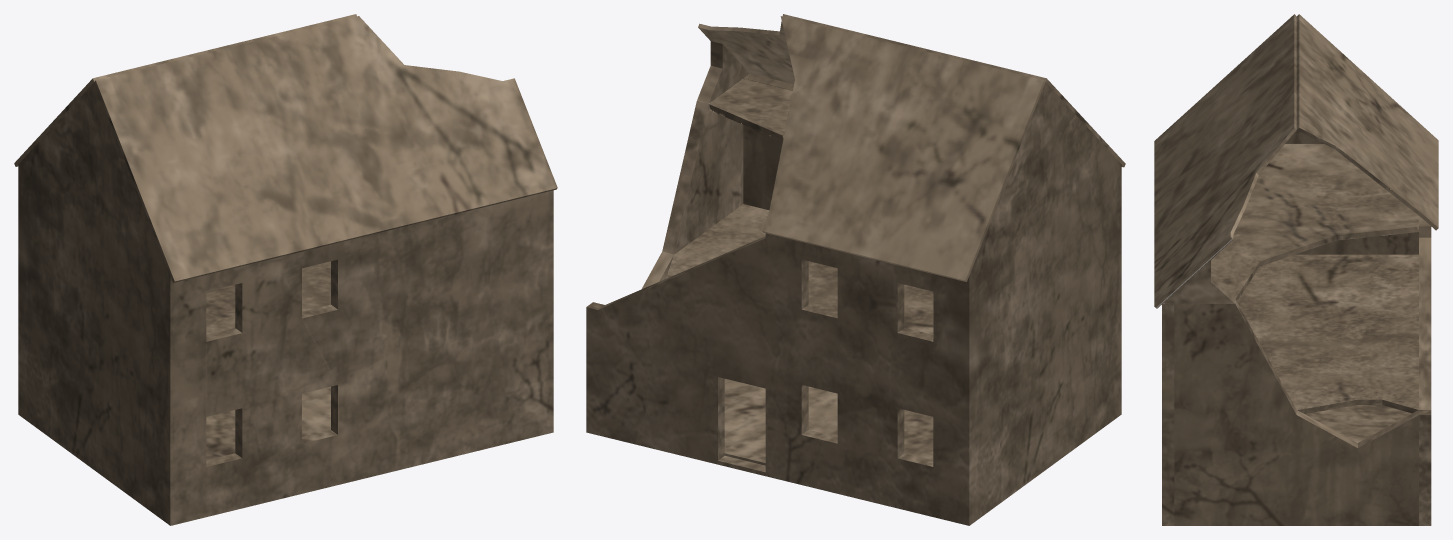
The model's file is Destroyed Building.dae.
3 views of the same model, side by side, from view 1: azimuth 30°, elevation 25°; view 2: azimuth 150°, elevation 25°; view 3: azimuth 270°, elevation 25° (orthographic). The views are drawn at different scales.
Parts seen in each view (by area): view 1: pPlane13; view 2: pPlane13; view 3: pPlane13.
Boxes of the visible parts, left/top/right/bottom form: pPlane13: left=14, top=14, right=557, bottom=525; pPlane13: left=586, top=14, right=1125, bottom=525; pPlane13: left=1154, top=14, right=1438, bottom=525.
Bounding box in the file's own units: 32.01 × 31.21 × 23.22.
